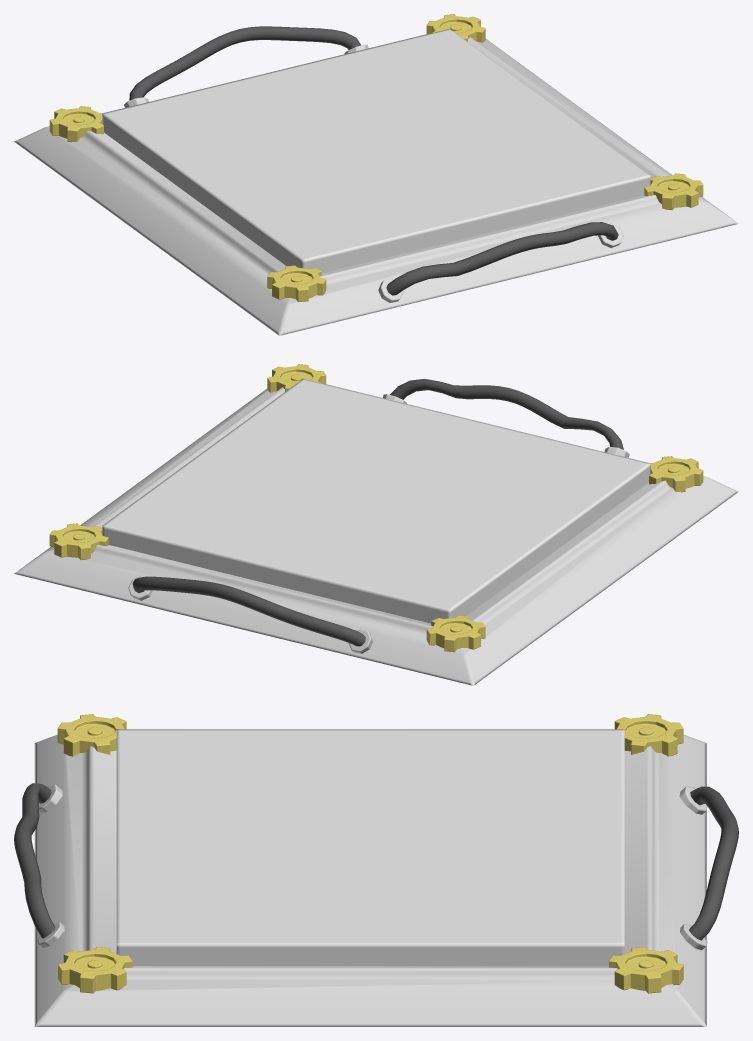
Rendered from pressureplate.fbx.
The picture shows the model from 3 angles, top to bottom: view 1: azimuth 30°, elevation 25°; view 2: azimuth 150°, elevation 25°; view 3: azimuth 270°, elevation 25°; orthographic projection. The views are drawn at different scales.
Parts seen in each view (by area): view 1: pressureplatebutton, pressureplatebase; view 2: pressureplatebutton, pressureplatebase; view 3: pressureplatebutton, pressureplatebase.
Boxes of the visible parts, x1,y1,x2,y2 form: pressureplatebutton: [102, 29, 650, 273]; pressureplatebase: [14, 14, 738, 335]; pressureplatebutton: [102, 379, 650, 623]; pressureplatebase: [14, 364, 738, 685]; pressureplatebutton: [116, 729, 624, 966]; pressureplatebase: [14, 714, 738, 1026].
Bounding box in the file's own units: 200 × 20.45 × 216.
